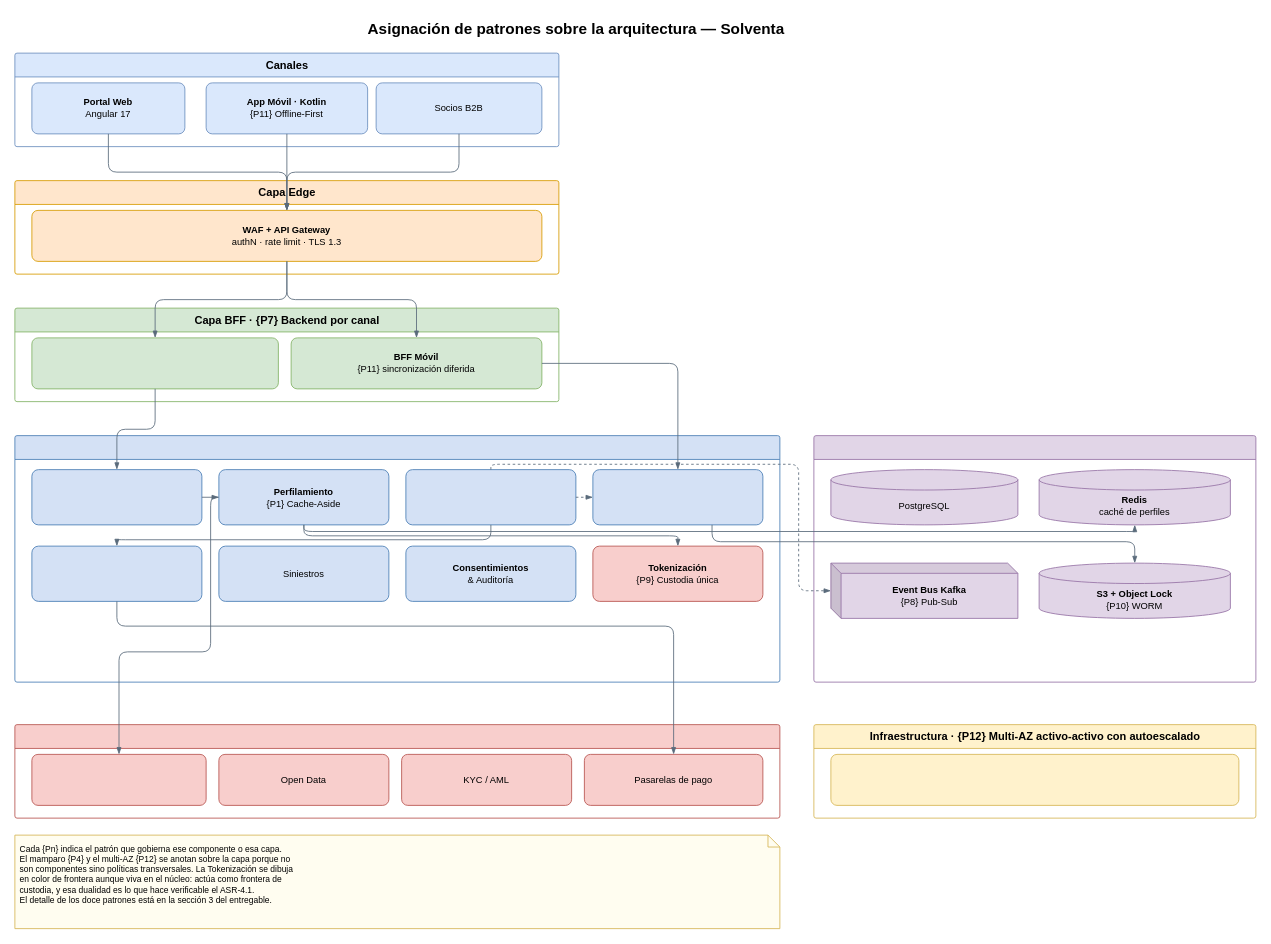
This 1271x944 diagram has some shape labels left out. Here are the shapes that lost their labels. From the top down, the box of each, then its label:
(31, 337, 278, 389): BFF Web
(31, 469, 202, 525): Cotización & Rating {P6} Strategy + config
(405, 469, 576, 525): Suscripción & Emisión
(592, 469, 763, 525): Pólizas {P10} Firma digital
(31, 545, 202, 601): Pagos & Recaudo {P5} Puerto de dominio
(14, 435, 780, 682): Núcleo de negocio · {P4} Mamparo: depósitos separados por dependencia
(813, 435, 1256, 682): Plataforma de datos
(31, 754, 206, 805): Open Finance
(14, 724, 780, 818): Adaptadores externos · {P2} Interruptor {P3} Timeout + reintento {P5} Adapter
(830, 754, 1239, 805): EKS multi-zona · HPA · comprobaciones de salud
